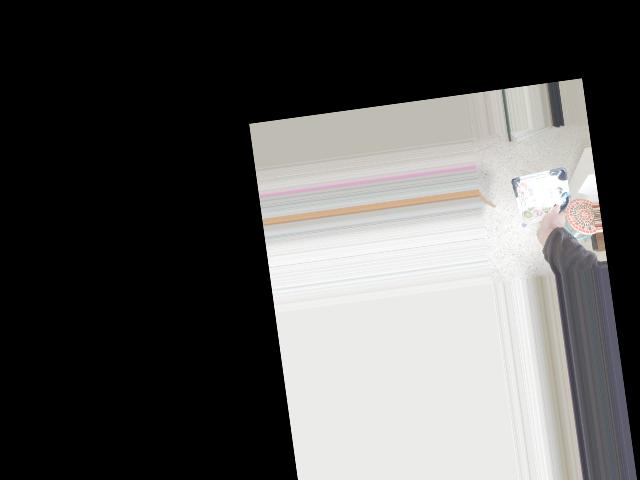cheese: (513, 177, 577, 246)
